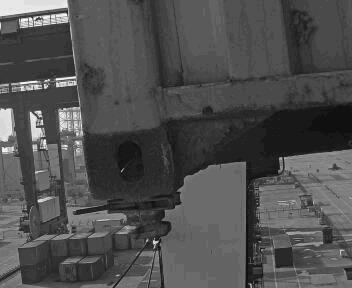twist_lock_1: (91, 184, 192, 253)
